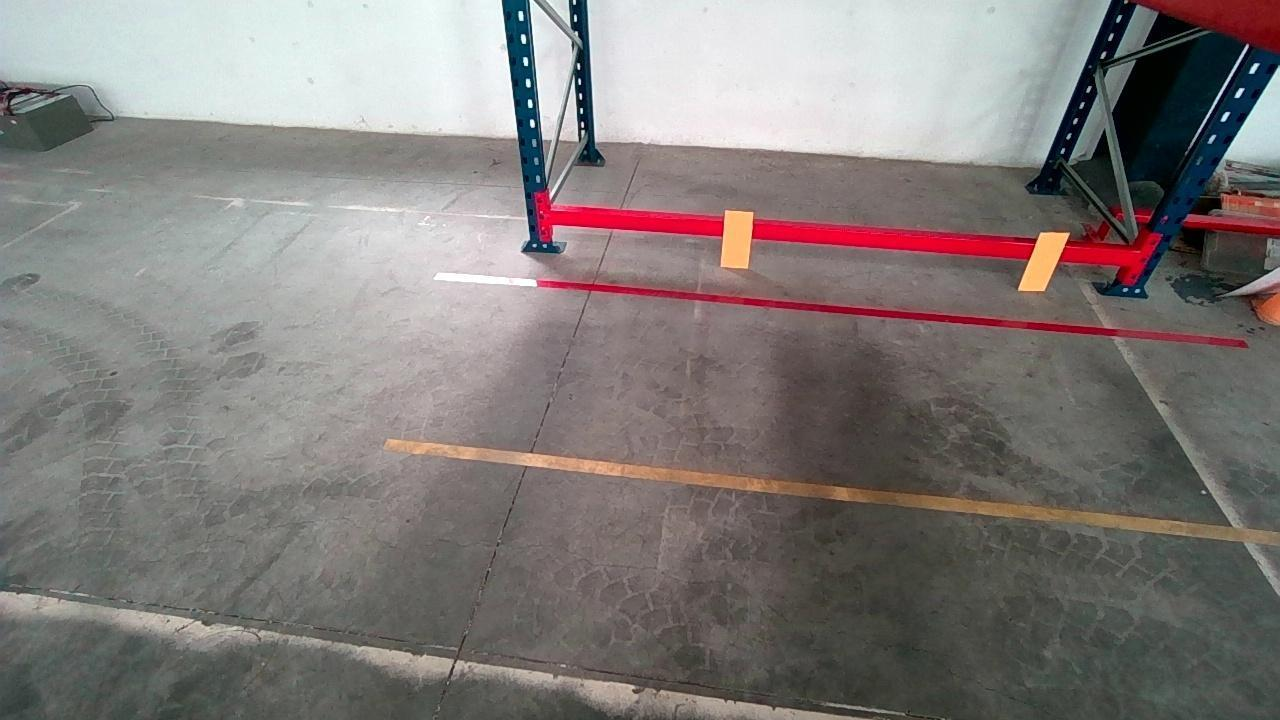h_rack: (549, 208, 1142, 267)
orange_strip: (1020, 230, 1071, 290), (722, 209, 753, 266)
red_line: (430, 271, 1250, 352)
yellow_line: (382, 436, 1280, 551)
